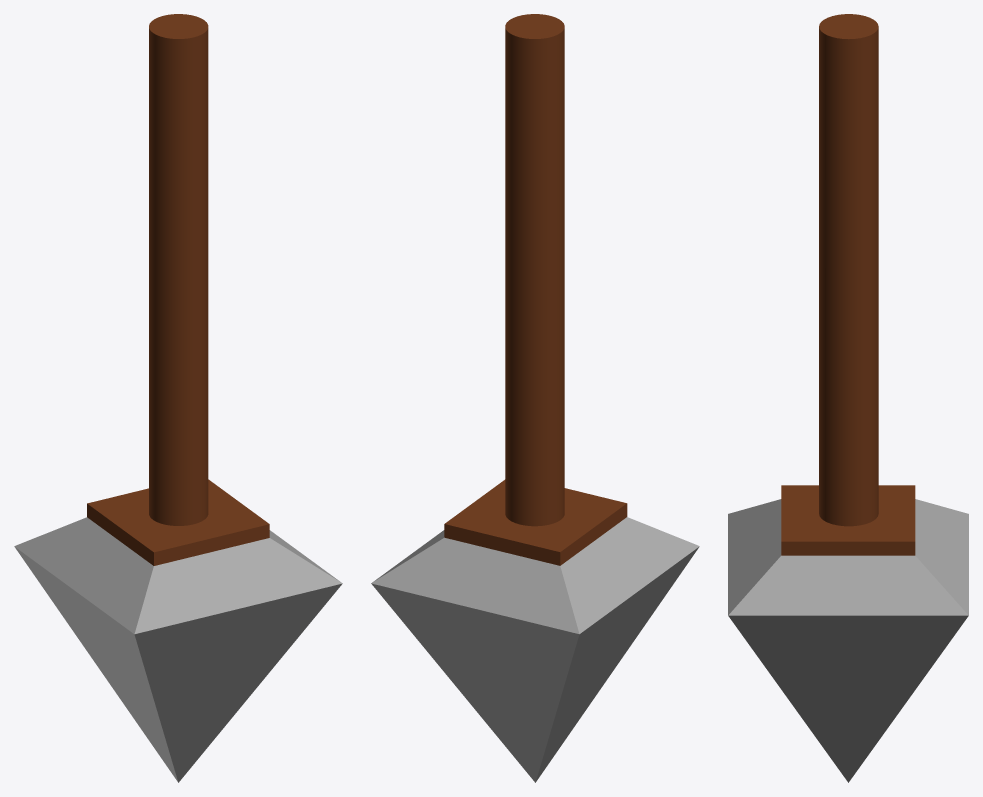
Rendered from Spike.fbx.
3 renders of one model, left to right at view 1: azimuth 30°, elevation 25°; view 2: azimuth 150°, elevation 25°; view 3: azimuth 270°, elevation 25°, orthographic.
Visible parts, largest first — view 1: Cube; view 2: Cube; view 3: Cube.
Boxes of the visible parts, x1,y1,x2,y2 form: Cube: (14, 14, 342, 782); Cube: (371, 14, 699, 782); Cube: (728, 14, 968, 782).
Bounding box in the file's own units: 50.97 × 177 × 50.97.
